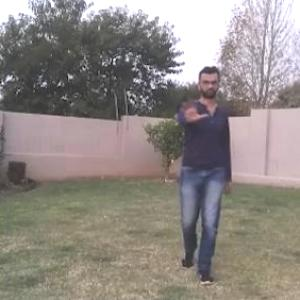follow_hand: (174, 94, 210, 121)
